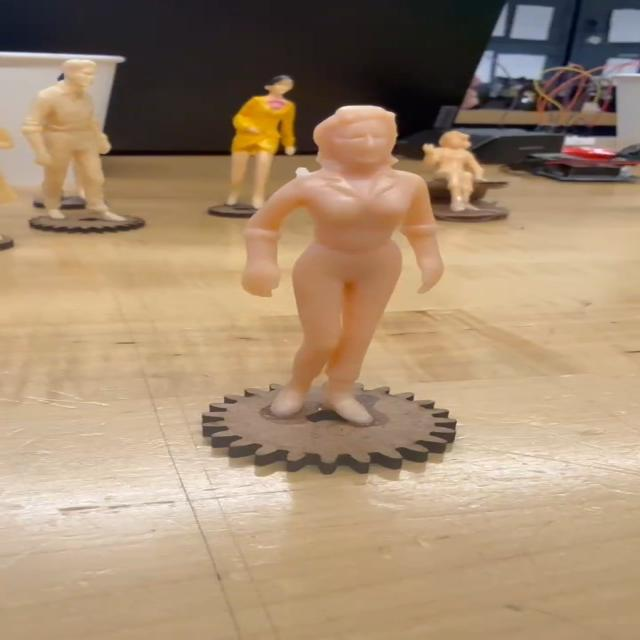Unauthorized: (220, 100, 465, 436)
